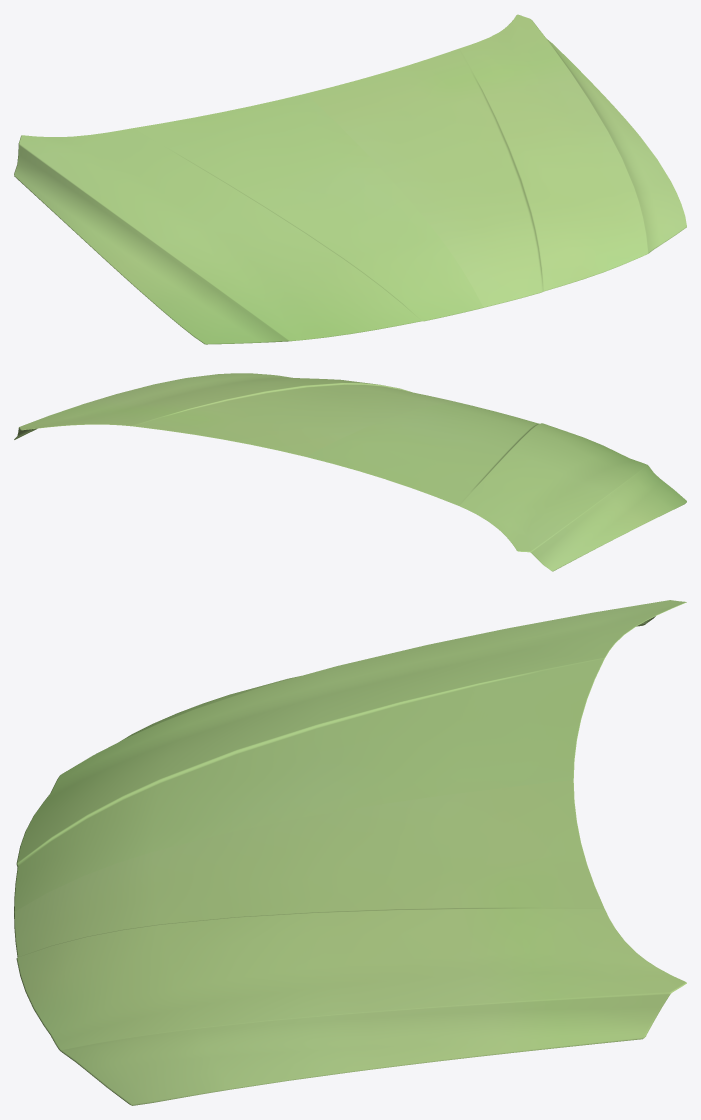
The model's file is cofre.obj.
3 renders of one model, top to bottom at view 1: azimuth 30°, elevation 25°; view 2: azimuth 150°, elevation 25°; view 3: azimuth 270°, elevation 25°, orthographic. The views are drawn at different scales.
Visible parts, largest first — view 1: Cofre; view 2: Cofre; view 3: Cofre.
Boxes of the visible parts, x1=… form: Cofre: x1=14, y1=14, x2=686, y2=344; Cofre: x1=14, y1=373, x2=686, y2=571; Cofre: x1=14, y1=600, x2=686, y2=1105.
Bounding box in the file's own units: 7.26 × 1.15 × 4.99.
1 material, 1 textured.
